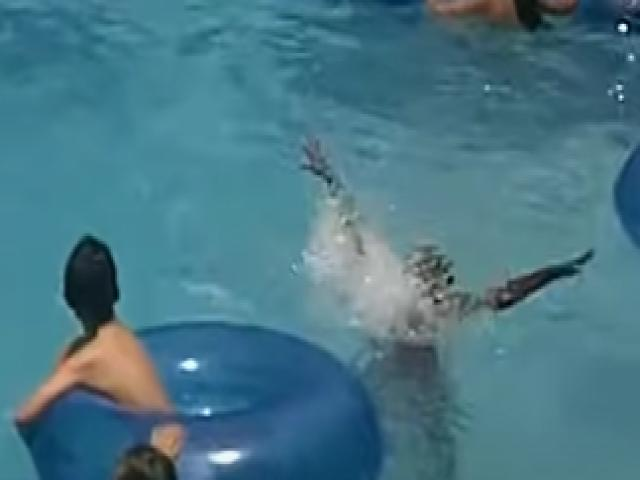drowning: (297, 130, 593, 474)
swimming: (19, 232, 186, 480)
